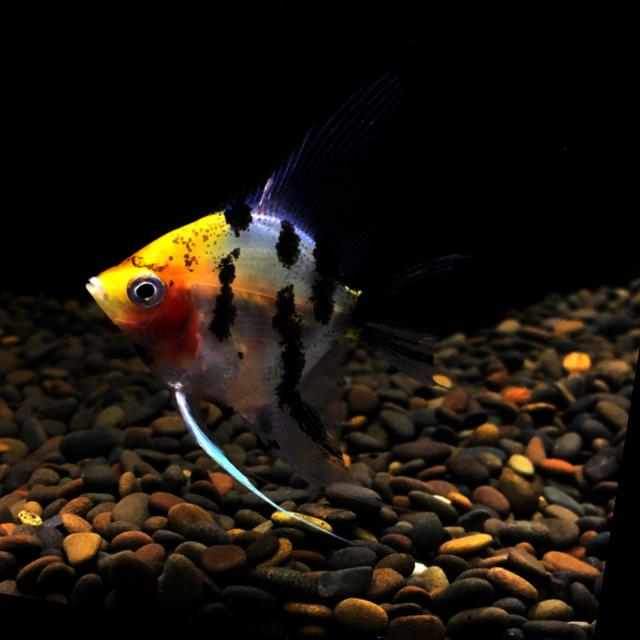AngelFish: (49, 27, 494, 556)
